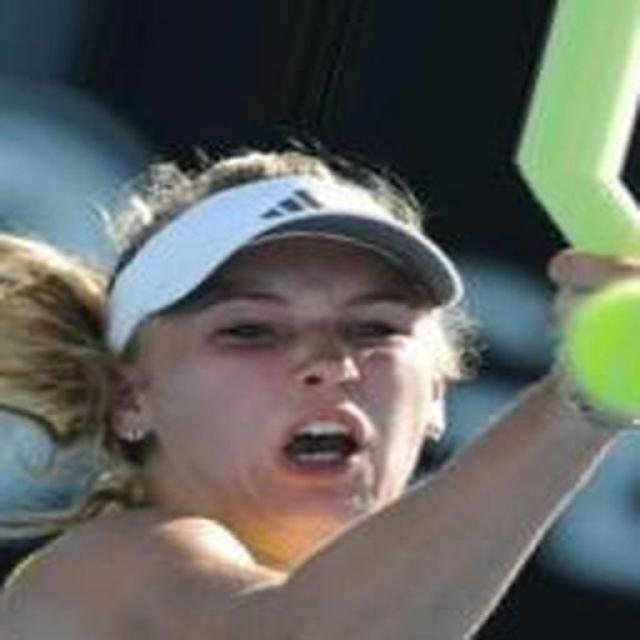bareface: (96, 180, 452, 502)
